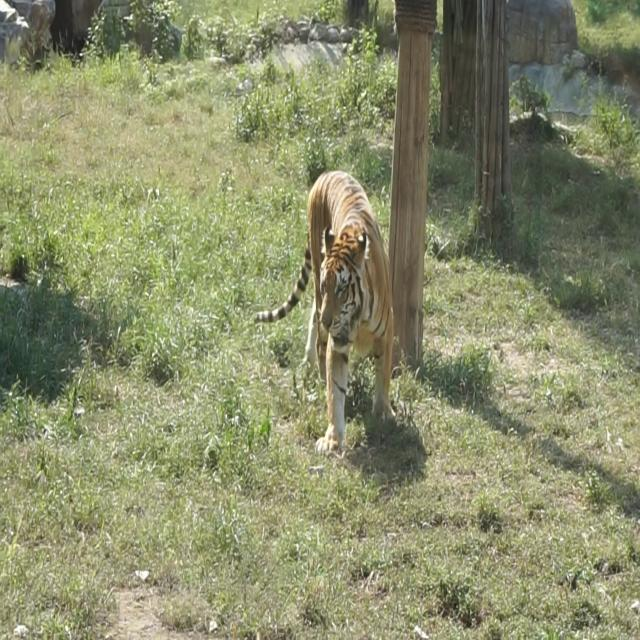Tiger: (258, 156, 398, 485)
